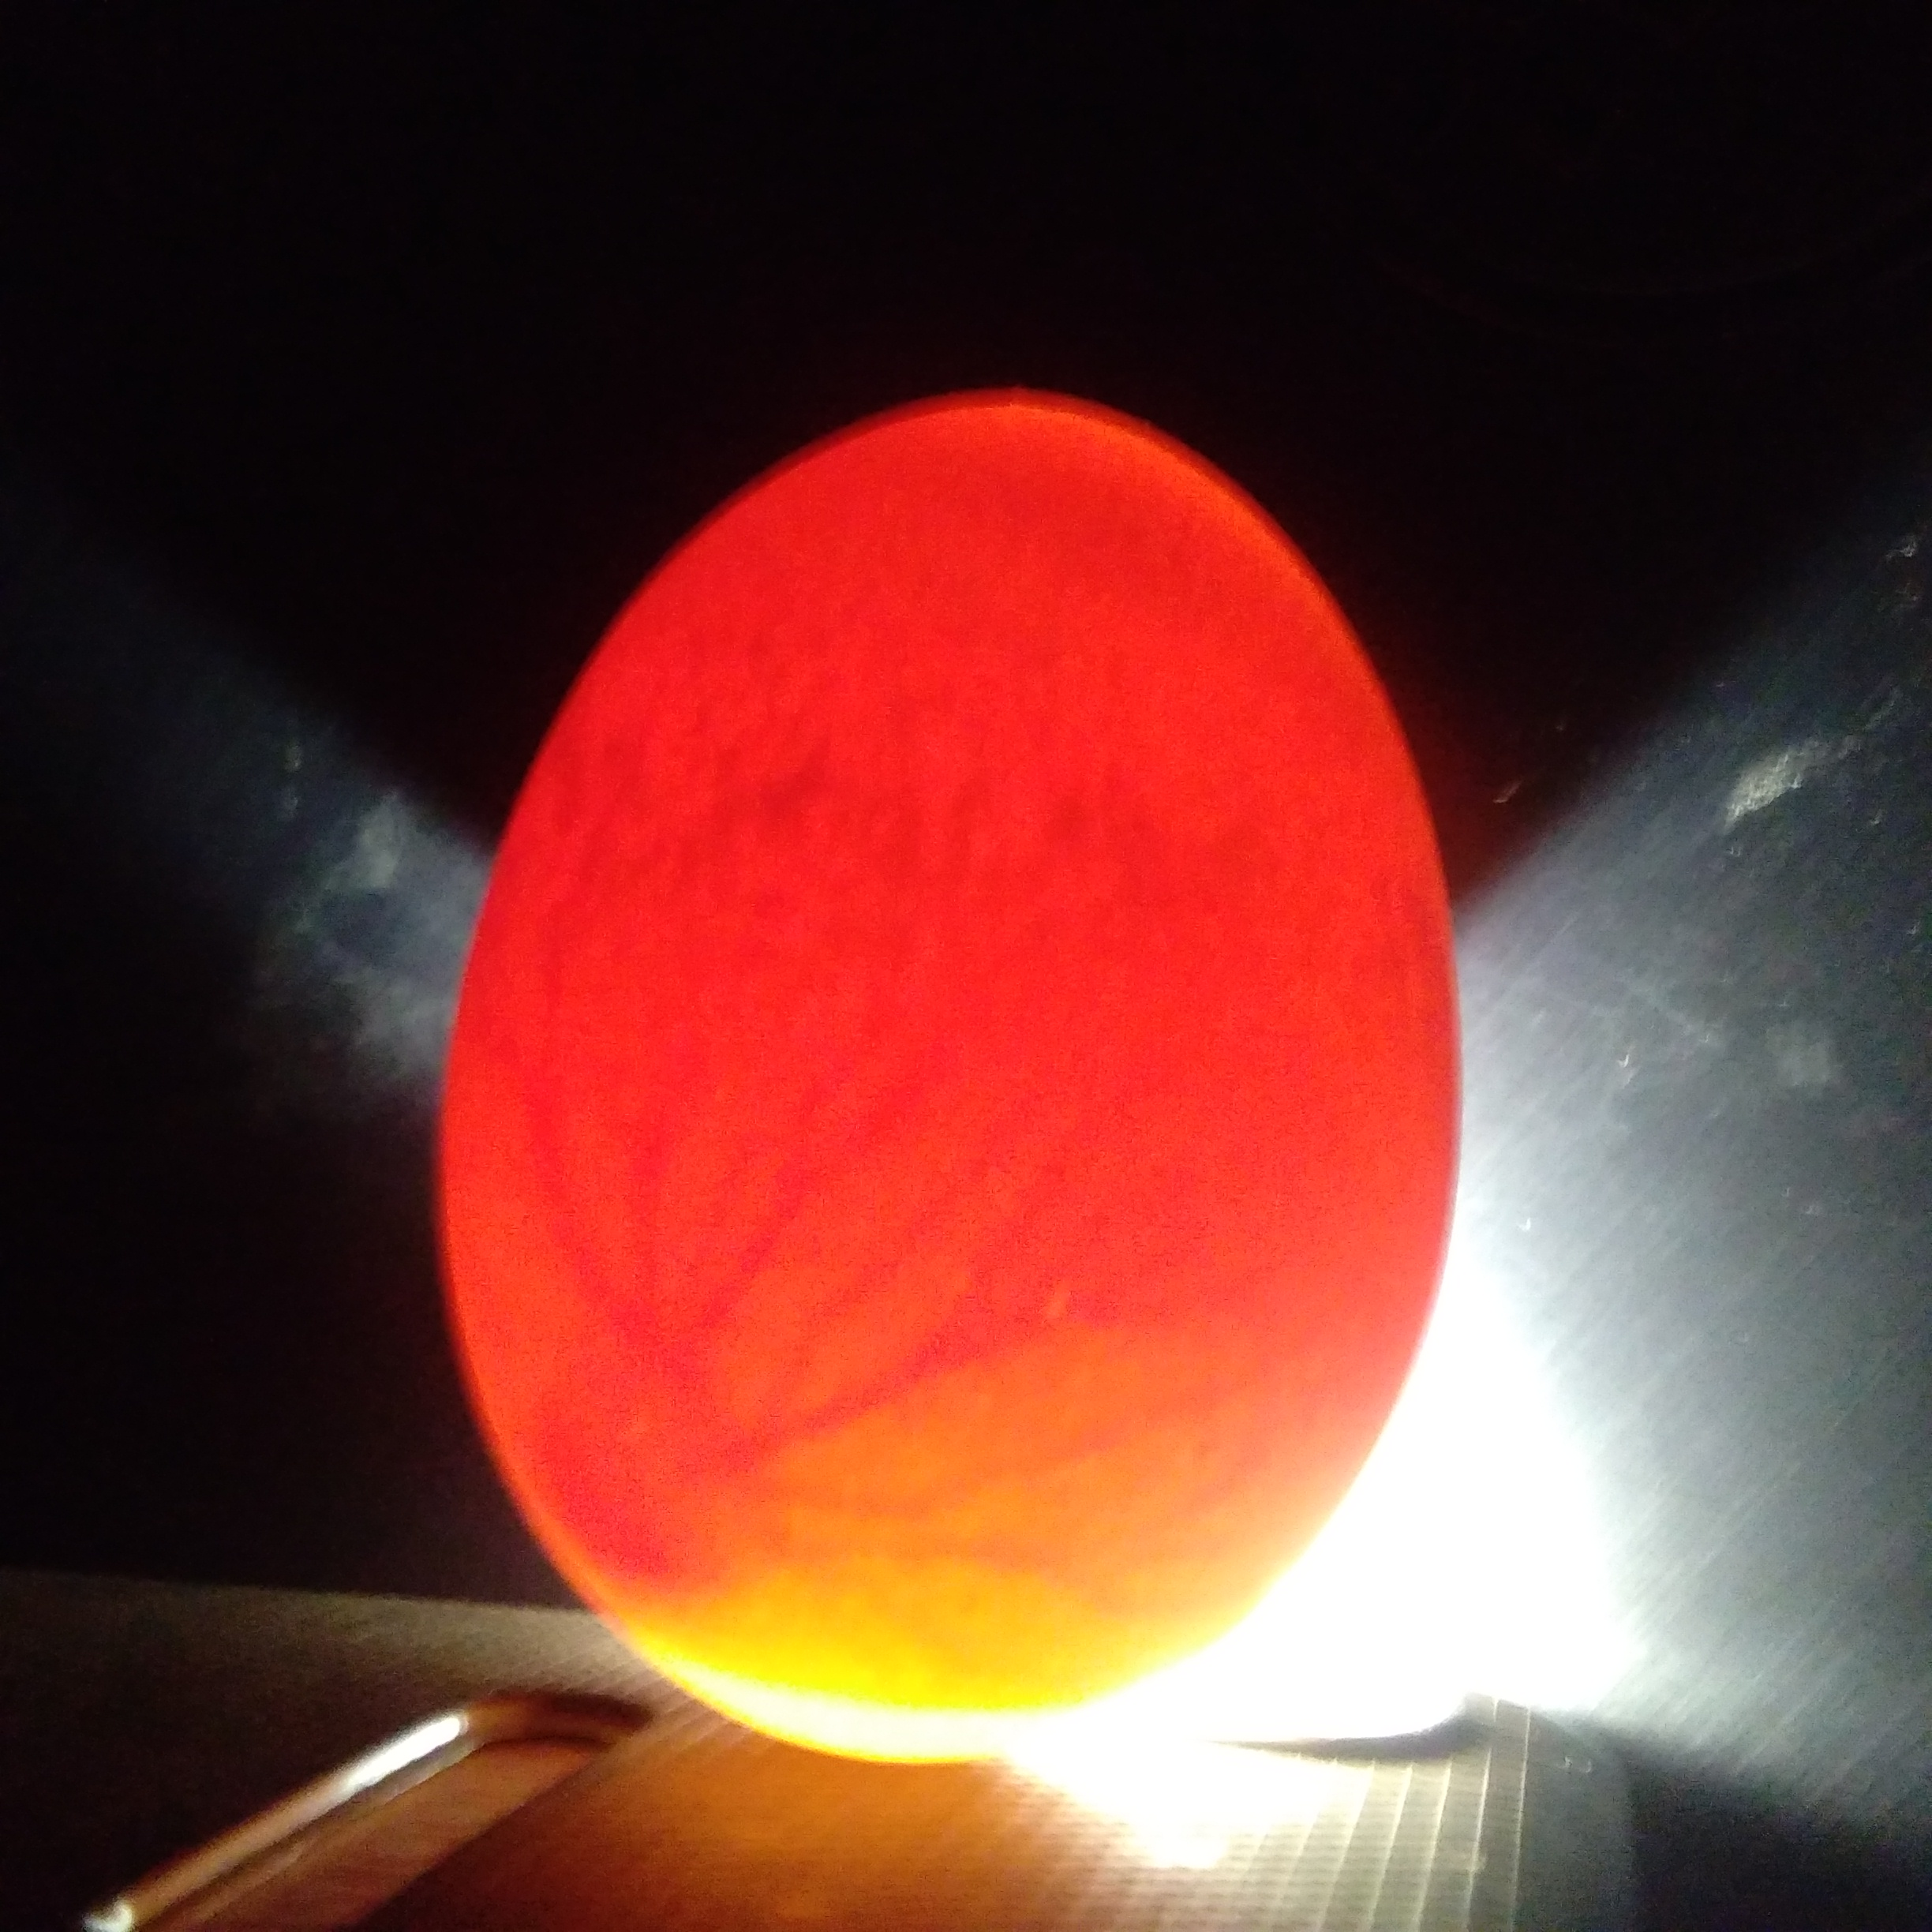bloodcell: (925, 1200, 1302, 1596), (570, 1178, 879, 1412)
embryo: (552, 1490, 747, 1583)
